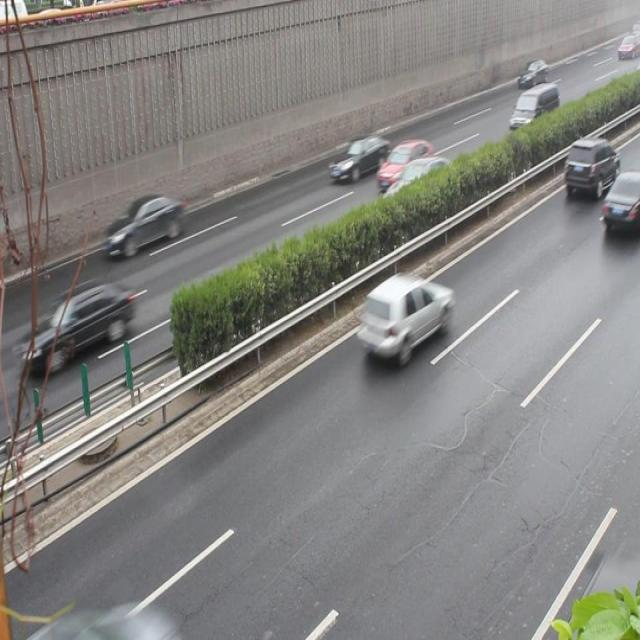car: (19, 277, 132, 363), (358, 269, 449, 358), (378, 154, 452, 219), (104, 193, 180, 256), (561, 134, 616, 193), (327, 133, 388, 180), (374, 138, 433, 186), (601, 170, 639, 233)
